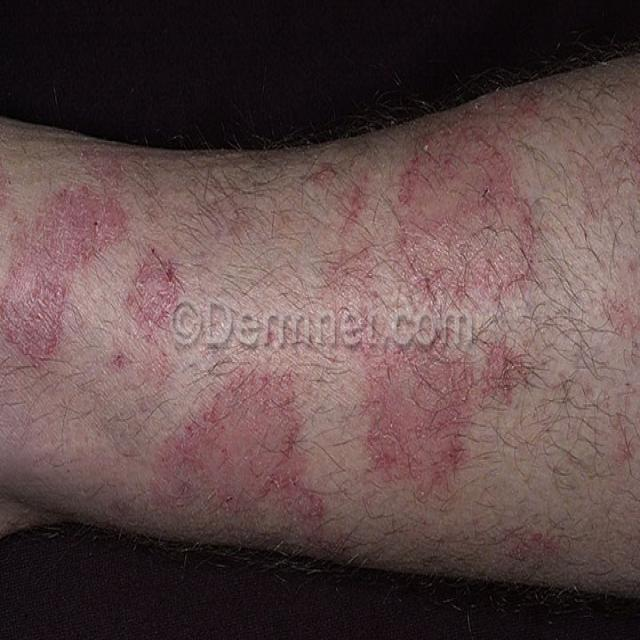Eczema: (0, 135, 540, 558)
